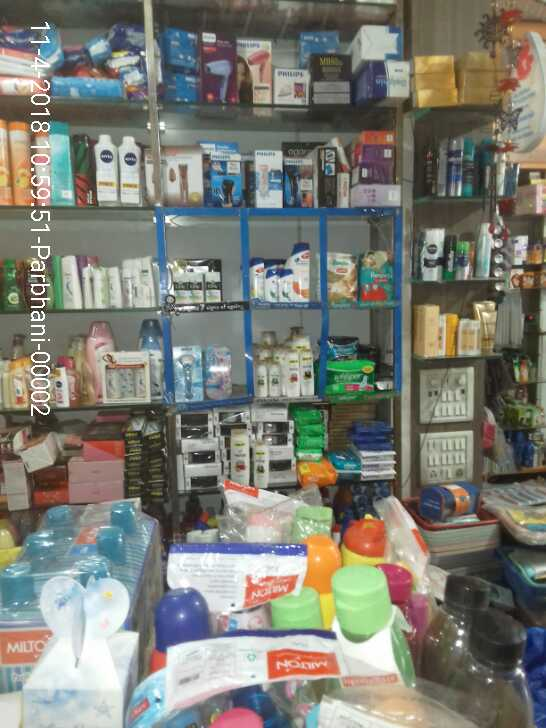gillete: (449, 134, 462, 194), (481, 136, 493, 195), (444, 234, 455, 281)
venus: (175, 348, 204, 401), (207, 345, 232, 397)
